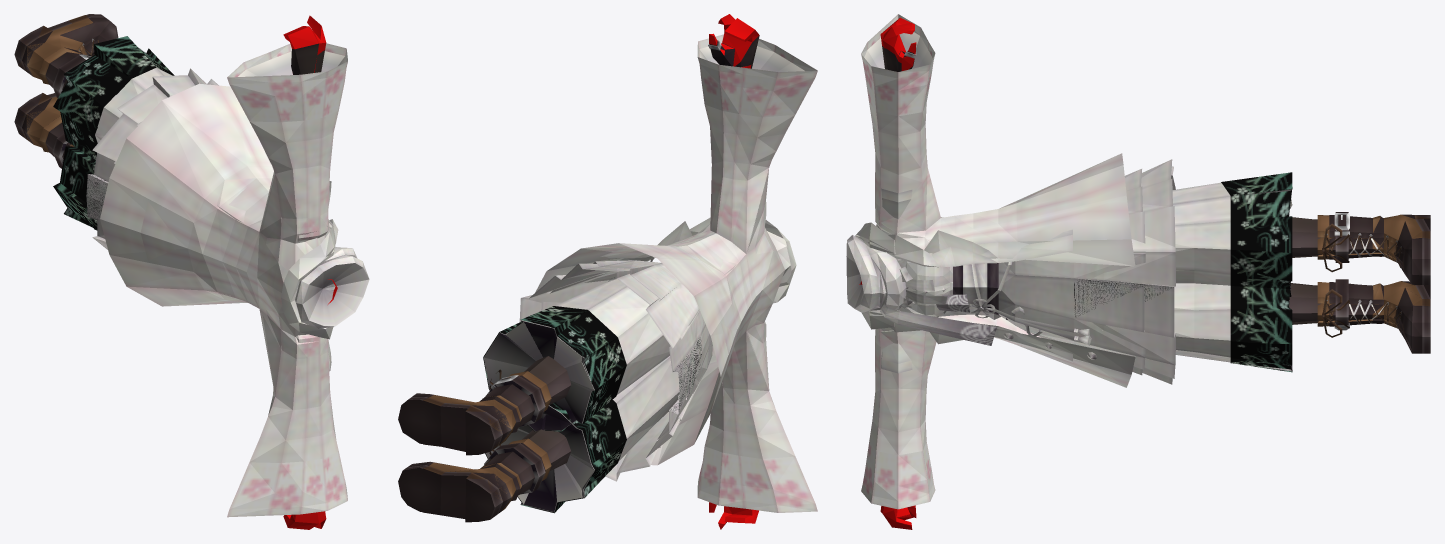
The model's file is body124.obj.
3 renders of one model, left to right at view 1: azimuth 30°, elevation 25°; view 2: azimuth 150°, elevation 25°; view 3: azimuth 270°, elevation 25°, orthographic.
Parts seen in each view (by area): view 1: h_body124_0, m_body124_4, h_body124_5, m_body124_5, h_body124_1, h_body124_4, l_body124_4, l_body124_0; view 2: h_body124_0, h_body124_4, h_body124_5, m_body124_5, m_body124_4, h_body124_1, l_body124_5, l_body124_4, l_body124_0; view 3: h_body124_0, h_body124_5, l_body124_5, h_body124_1, m_body124_5, h_body124_4, m_body124_4, l_body124_4, l_body124_0.
Part boxes in pixels (bbox=[...]): h_body124_0: bbox=[100, 15, 369, 529]; m_body124_4: bbox=[53, 36, 174, 229]; h_body124_5: bbox=[18, 15, 171, 230]; m_body124_5: bbox=[86, 52, 218, 249]; h_body124_1: bbox=[140, 16, 338, 528]; h_body124_4: bbox=[14, 14, 153, 213]; l_body124_4: bbox=[19, 14, 173, 168]; l_body124_0: bbox=[281, 43, 335, 371]; h_body124_0: bbox=[535, 14, 817, 526]; h_body124_4: bbox=[398, 277, 669, 522]; h_body124_5: bbox=[423, 278, 712, 514]; m_body124_5: bbox=[519, 263, 705, 481]; m_body124_4: bbox=[501, 306, 626, 512]; h_body124_1: bbox=[600, 14, 775, 529]; l_body124_5: bbox=[541, 260, 712, 447]; l_body124_4: bbox=[404, 263, 662, 518]; l_body124_0: bbox=[708, 35, 763, 344]; h_body124_0: bbox=[846, 14, 1135, 529]; h_body124_5: bbox=[999, 182, 1430, 369]; l_body124_5: bbox=[998, 169, 1303, 375]; h_body124_1: bbox=[875, 22, 1089, 529]; m_body124_5: bbox=[1083, 159, 1175, 384]; h_body124_4: bbox=[1022, 189, 1430, 371]; m_body124_4: bbox=[1221, 172, 1292, 372]; l_body124_4: bbox=[1006, 191, 1430, 353]; l_body124_0: bbox=[859, 46, 916, 373].
Bounding box in the file's own units: 0.8728 × 2.37 × 2.47.
3 materials, 2 textured.
